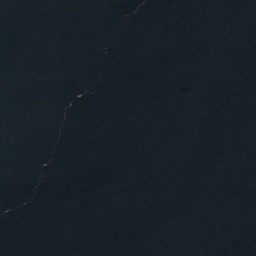Marine Debris: (41, 89, 93, 169), (21, 175, 45, 207), (125, 0, 148, 18), (3, 208, 12, 215), (102, 47, 108, 55)
